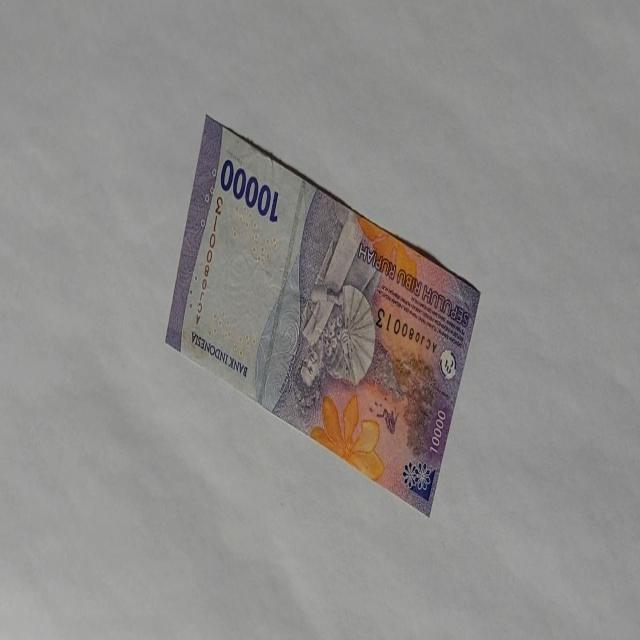Kertas: (164, 112, 482, 519), (220, 156, 280, 224)
